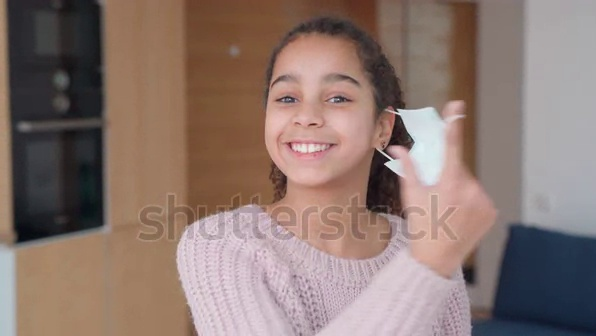No Mask: (251, 111, 376, 186)
